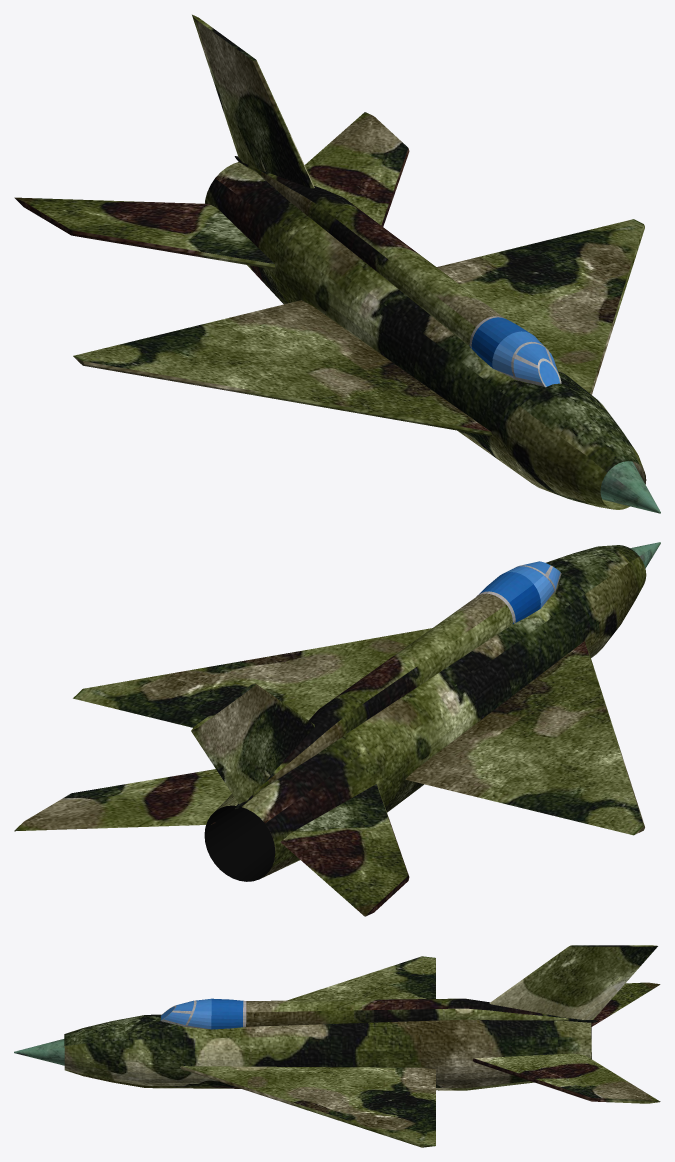
File: mig-21.gltf
3 views of the same model, one above another, from view 1: azimuth 30°, elevation 25°; view 2: azimuth 150°, elevation 25°; view 3: azimuth 270°, elevation 25° (orthographic). The views are drawn at different scales.
Parts seen in each view (by area): view 1: Circle; view 2: Circle; view 3: Circle.
Part boxes in pixels (x1,y1,x2,y2): Circle: [14, 14, 660, 513]; Circle: [14, 542, 660, 916]; Circle: [14, 945, 660, 1147].
Bounding box in the file's own units: 10.61 × 3.71 × 15.41.
Materials: 5 (4 with a texture image).
